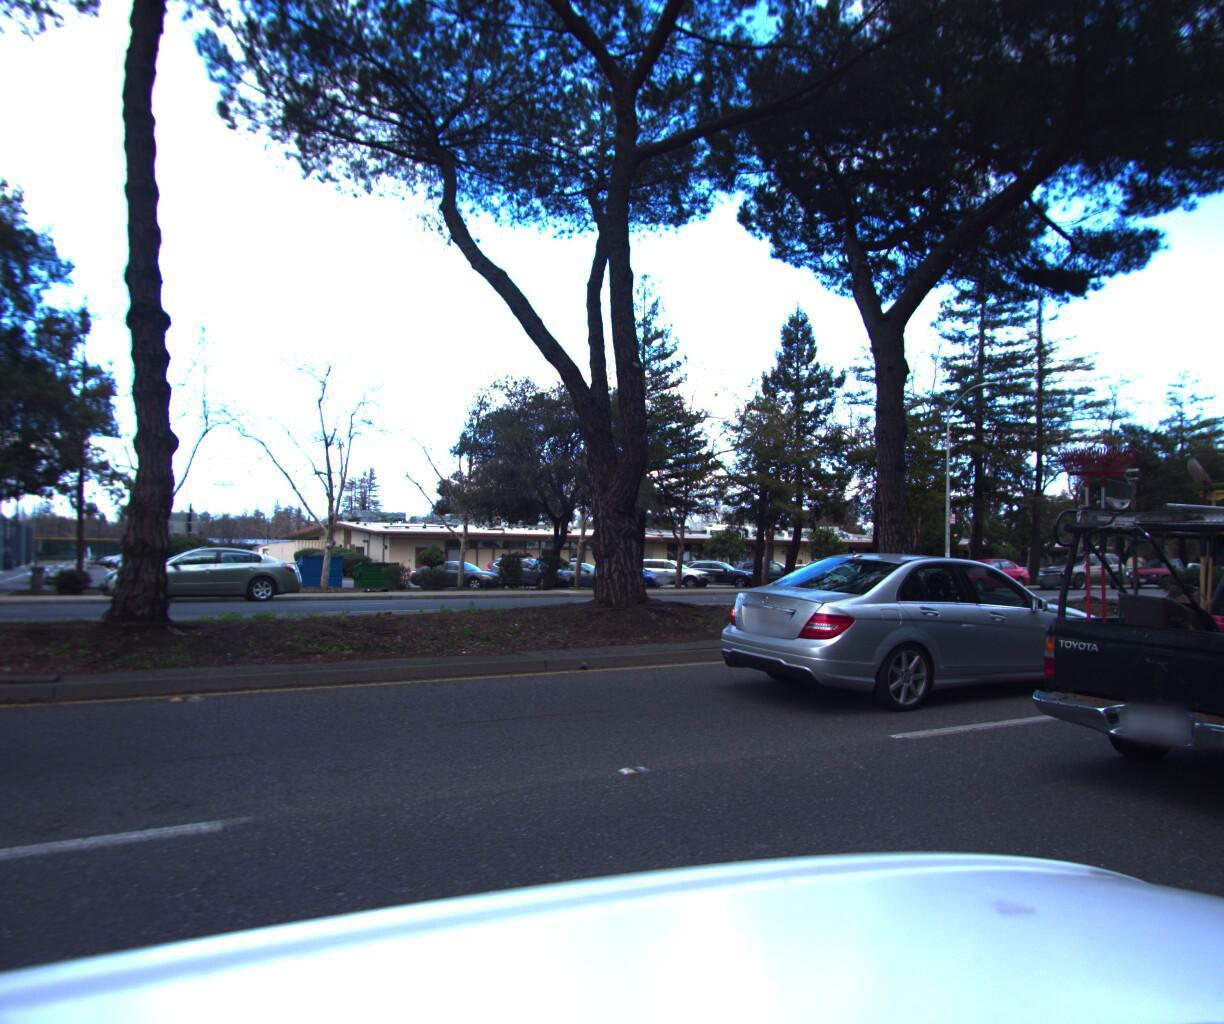car: (981, 393, 1224, 883), (681, 541, 1120, 729), (90, 542, 311, 612), (1027, 546, 1127, 587), (926, 553, 1033, 590), (1117, 553, 1203, 587)
